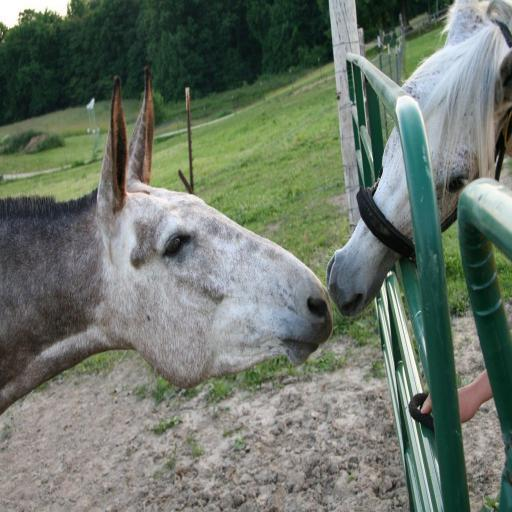horse: (0, 65, 336, 419), (320, 0, 511, 320)
